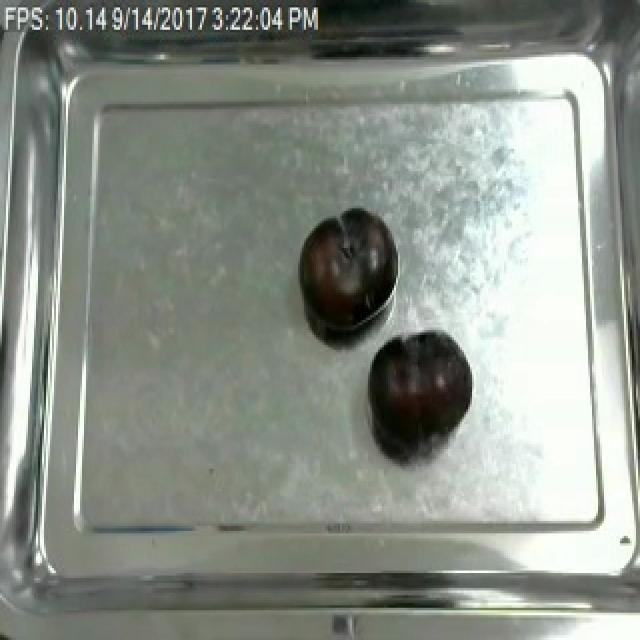Fruit: (362, 328, 476, 452), (292, 204, 394, 338)
